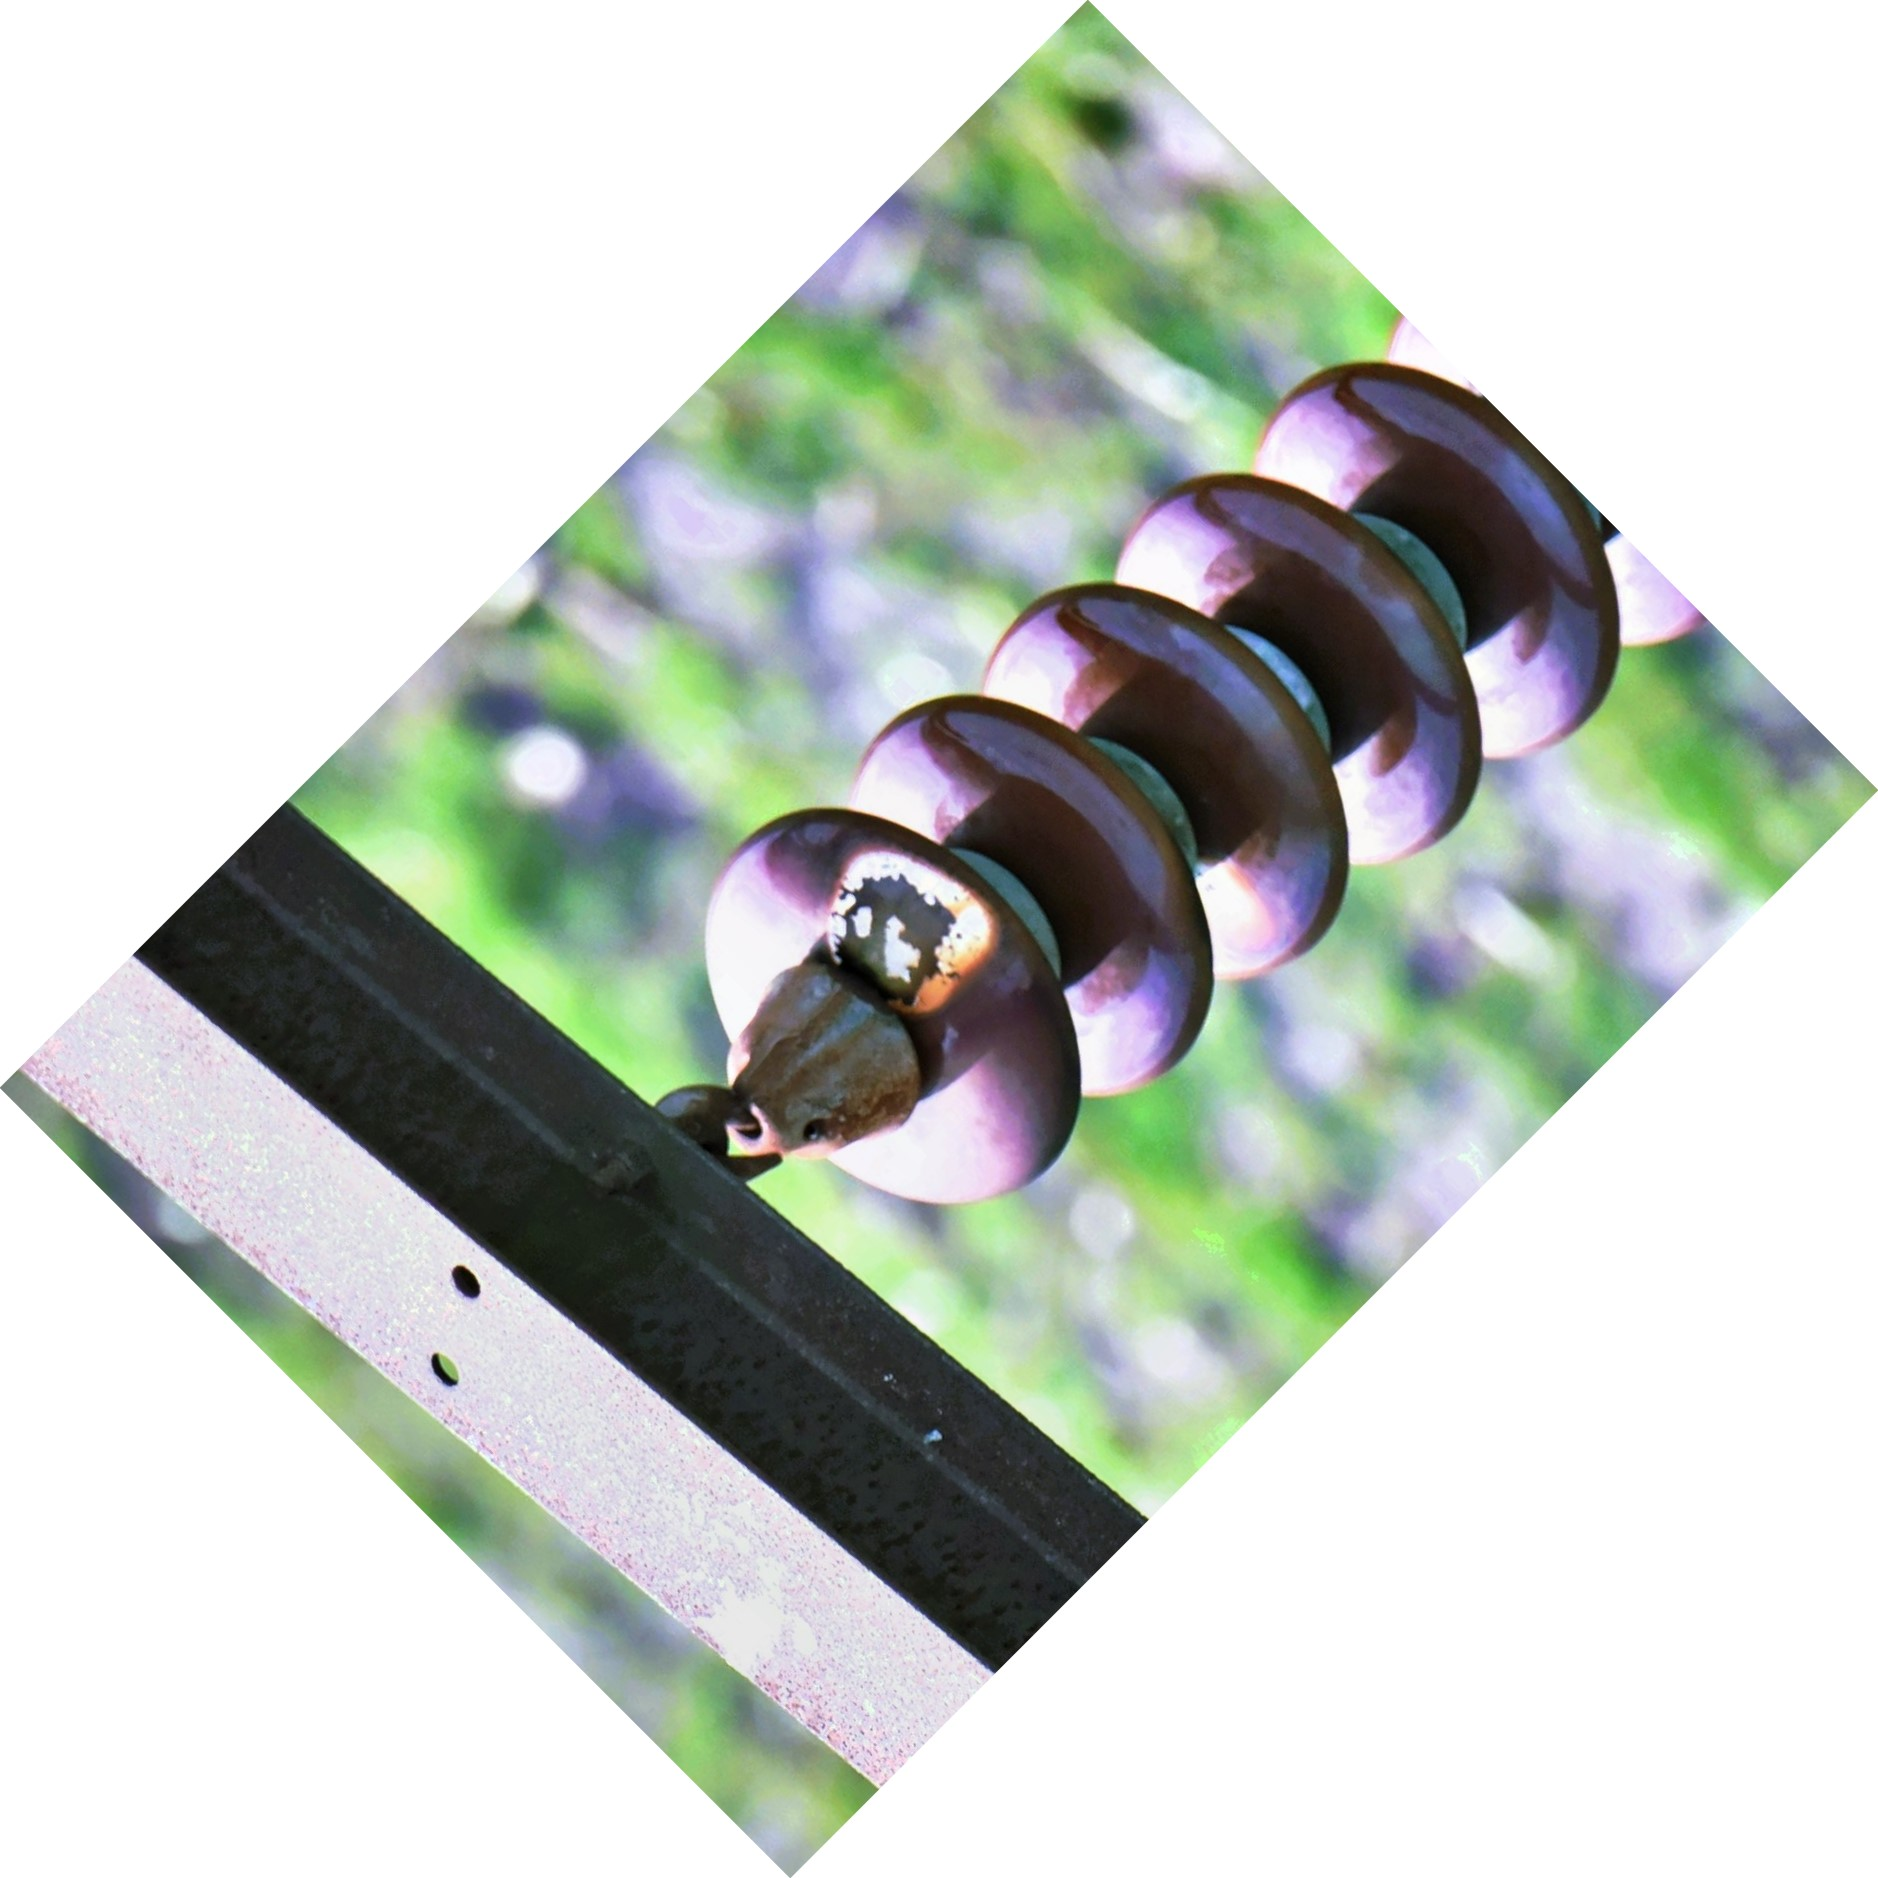Insulator flashover: (679, 791, 1099, 1245)
